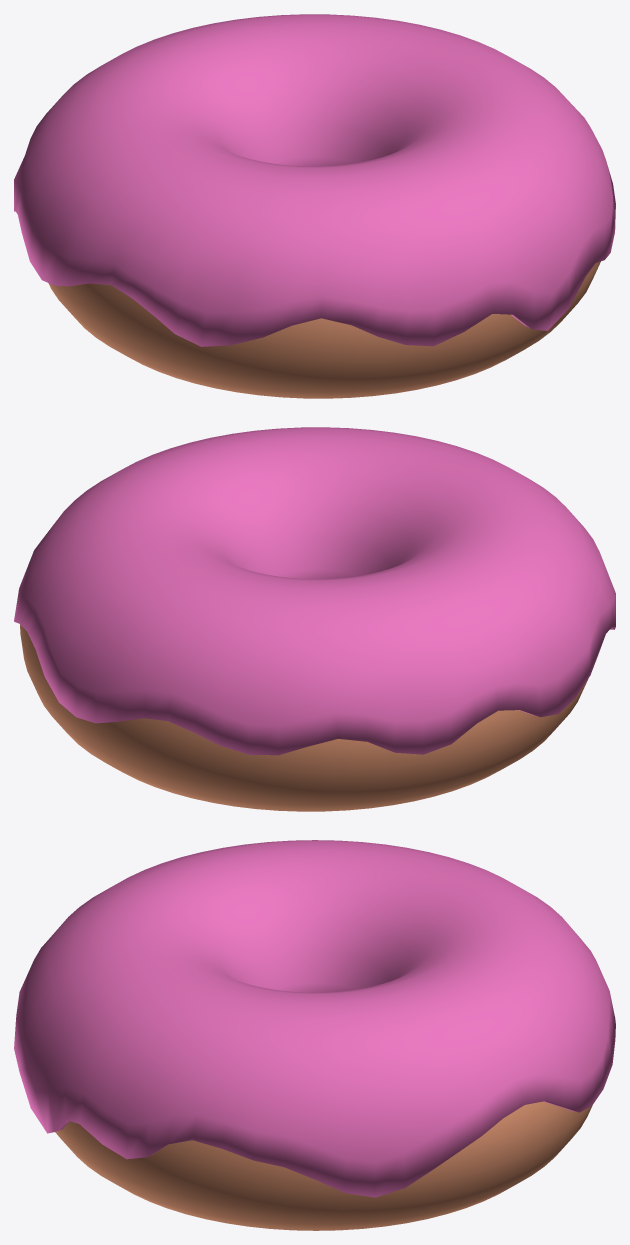
File: donat.fbx
3 renders of one model, top to bottom at view 1: azimuth 30°, elevation 25°; view 2: azimuth 150°, elevation 25°; view 3: azimuth 270°, elevation 25°, orthographic.
Visible parts, largest first — view 1: icing.001, Donat.001; view 2: icing.001, Donat.001; view 3: icing.001, Donat.001.
Boxes of the visible parts, x1,y1,x2,y2 form: icing.001: (14,14,615,346); Donat.001: (48,261,600,398); icing.001: (14,427,615,755); Donat.001: (20,624,588,811); icing.001: (14,840,615,1197); Donat.001: (55,1101,592,1230).
Size of the model in its own units: 12.92 by 5.06 by 12.91.
